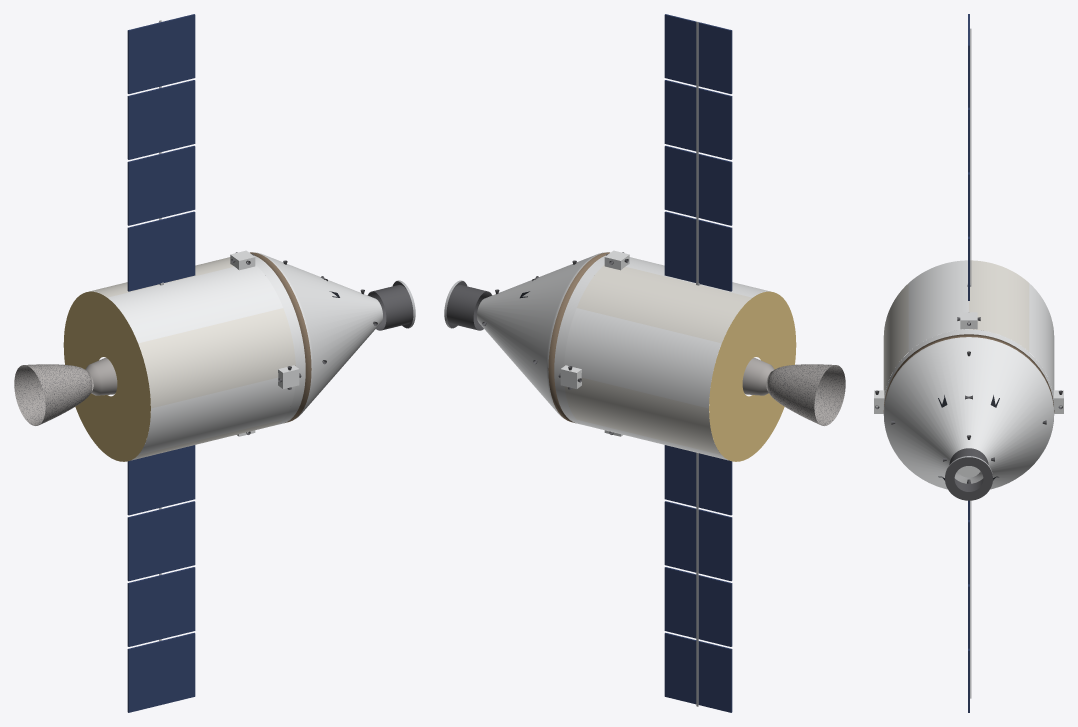
File: rs1_corvid.glb
3 renders of one model, left to right at view 1: azimuth 30°, elevation 25°; view 2: azimuth 150°, elevation 25°; view 3: azimuth 270°, elevation 25°, orthographic. The views are drawn at different scales.
Parts seen in each view (by area): view 1: part_sm_structure, part_solar_wing_py, part_solar_wing_my, part_crew_module, engine_main, part_docking_port, part_heat_shield, part_rcs_sm_rcs; view 2: part_sm_structure, part_solar_wing_py, part_solar_wing_my, part_crew_module, engine_main, part_docking_port, part_heat_shield, part_rcs_sm_rcs; view 3: part_crew_module, part_sm_structure, part_docking_port, part_solar_wing_py, part_rcs_sm_rcs, part_solar_wing_my, part_heat_shield.
Part boxes in pixels (x1=…): part_sm_structure: x1=63, y1=255, x2=305, y2=461; part_solar_wing_py: x1=127, y1=14, x2=195, y2=291; part_solar_wing_my: x1=127, y1=445, x2=195, y2=712; part_crew_module: x1=253, y1=252, x2=382, y2=418; engine_main: x1=14, y1=358, x2=117, y2=425; part_docking_port: x1=367, y1=280, x2=415, y2=330; part_heat_shield: x1=250, y1=252, x2=311, y2=423; part_rcs_sm_rcs: x1=230, y1=250, x2=301, y2=436; part_sm_structure: x1=554, y1=255, x2=796, y2=461; part_solar_wing_py: x1=664, y1=14, x2=732, y2=291; part_solar_wing_my: x1=664, y1=445, x2=732, y2=712; part_crew_module: x1=477, y1=252, x2=606, y2=418; engine_main: x1=742, y1=358, x2=845, y2=425; part_docking_port: x1=444, y1=280, x2=492, y2=330; part_heat_shield: x1=548, y1=252, x2=609, y2=423; part_rcs_sm_rcs: x1=558, y1=250, x2=629, y2=436; part_crew_module: x1=883, y1=337, x2=1054, y2=489; part_sm_structure: x1=883, y1=260, x2=1054, y2=477; part_docking_port: x1=945, y1=448, x2=992, y2=500; part_solar_wing_py: x1=967, y1=14, x2=971, y2=300; part_rcs_sm_rcs: x1=874, y1=312, x2=1063, y2=413; part_solar_wing_my: x1=968, y1=500, x2=971, y2=712; part_heat_shield: x1=883, y1=334, x2=1054, y2=412.
Size of the model in its own units: 9.65 by 16.9 by 4.34.
